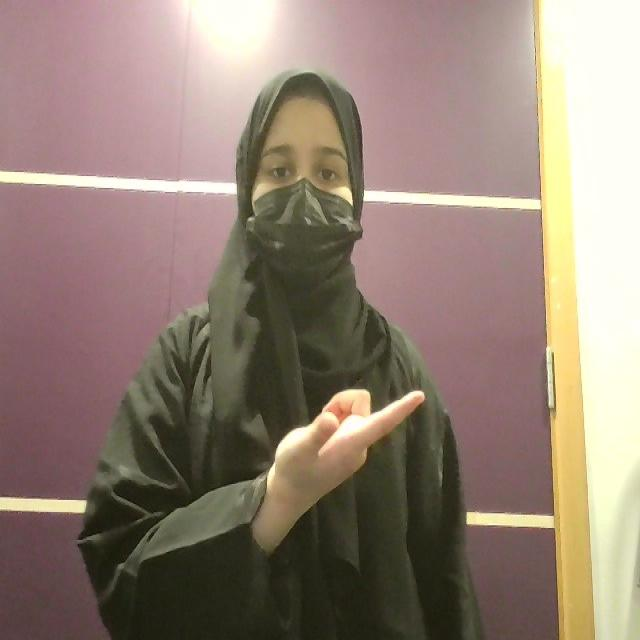dispensing: (251, 385, 425, 555)
